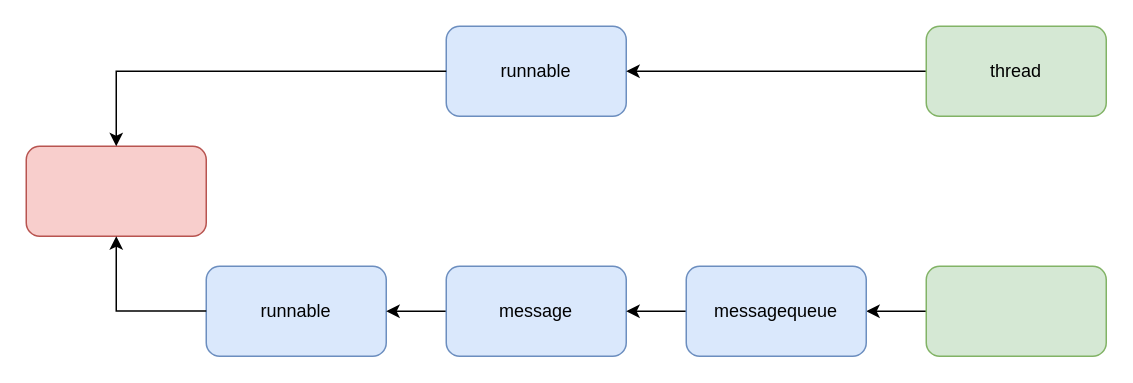
This 1133x383 diagram has some shape labels left out. The centre of each missing label's shape, as x and y in pixels:
"activity" goes at point 115,190.
"mainlooper" goes at point 1015,310.
